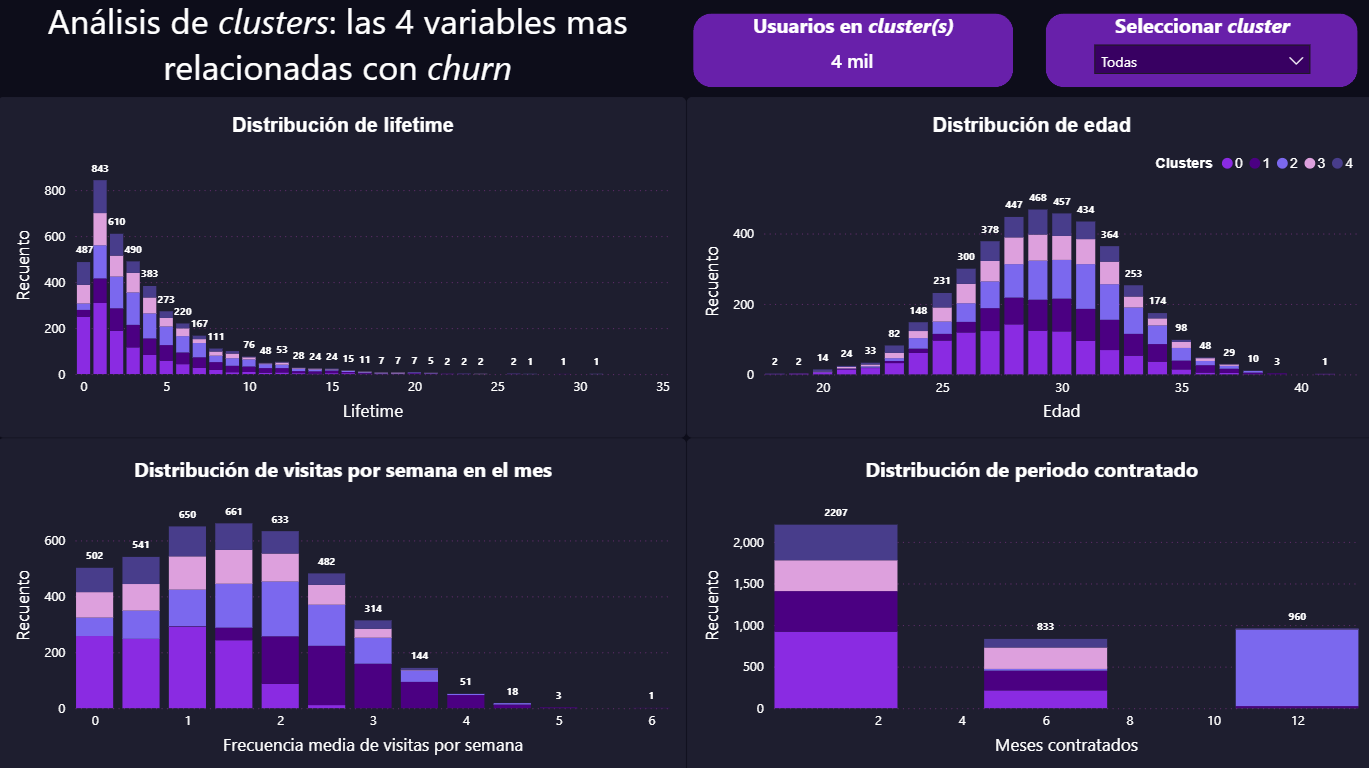

The dashboard page shown, as its layout file describes it:
{"tool":"powerbi","page":{"name":"Página 1","canvas":[1280,720],"ordinal":0},"visuals":[{"type":"shape","box":[959.9,0,320.4,98.8],"z":0},{"type":"slicer","fields":{"Values":["gym_data.labels"]},"box":[1015.6,39.3,210.2,40.5],"z":1000},{"type":"columnChart","title":"Distribución de edad","fields":{"Category":["gym_data.age","gym_data.bins"],"Y":["Count(gym_data.user_id)"],"Series":["gym_data.labels"]},"box":[640.1,93.2,640.1,316.7],"z":2000},{"type":"columnChart","title":"Distribución de lifetime","fields":{"Category":["gym_data.lifetime","gym_data.bins"],"Y":["Count(gym_data.user_id)"],"Series":["gym_data.labels"]},"box":[0,93.2,640.1,316.7],"z":3000},{"type":"columnChart","title":"Distribución de visitas por semana en el mes","fields":{"Category":["gym_data.bins(avg)","gym_data.avg_class_frequency_current_month"],"Y":["Count(gym_data.user_id)"],"Series":["gym_data.labels"]},"box":[0,409.9,640.1,310.1],"z":4000},{"type":"columnChart","title":"Distribución de periodo contratado","fields":{"Category":["gym_data.contract_period"],"Y":["Count(gym_data.user_id)"],"Series":["gym_data.labels"]},"box":[640.1,409.9,640.1,310.1],"z":5000},{"type":"textbox","box":[0,0,632.2,93.2],"z":6000},{"type":"shape","box":[631.9,0,328,98.8],"z":7000},{"type":"cardVisual","fields":{"Data":["Count(gym_data.user_id)"]},"box":[749.7,24.1,93.7,69.6],"z":8000},{"type":"textbox","box":[1027,13.9,187.4,36.7],"z":9000},{"type":"textbox","box":[702.8,13.9,187.4,36.7],"z":10000}]}

Visuals, with their boxes in screenshot pixels (x1, y1, x2, y2), scaled from the page's 1280x720 canvas onto the 1369x768 screenshot:
shape: Rect(1027, 0, 1368, 105)
slicer - gym_data.labels: Rect(1086, 42, 1311, 85)
"Distribución de edad" columnChart: Rect(685, 99, 1368, 437)
"Distribución de lifetime" columnChart: Rect(0, 99, 685, 437)
"Distribución de visitas por semana en el mes" columnChart: Rect(0, 437, 685, 767)
"Distribución de periodo contratado" columnChart: Rect(685, 437, 1368, 767)
textbox: Rect(0, 0, 676, 99)
shape: Rect(676, 0, 1027, 105)
cardVisual - Count(gym_data.user_id): Rect(802, 26, 902, 100)
textbox: Rect(1098, 15, 1299, 54)
textbox: Rect(752, 15, 952, 54)
